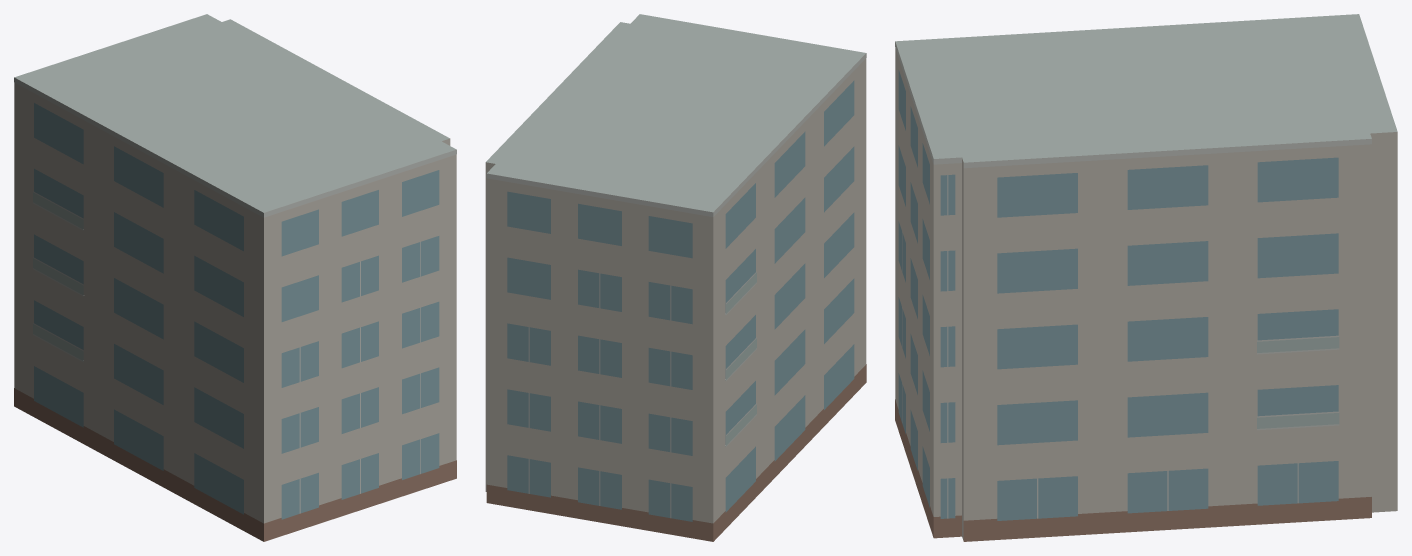
File: survey-upis-32960573.glb
3 views of the same model, side by side, from view 1: azimuth 30°, elevation 25°; view 2: azimuth 150°, elevation 25°; view 3: azimuth 270°, elevation 25° (orthographic). The views are drawn at different scales.
Visible parts, largest first — view 1: survey-upis-32960573.tmp; view 2: survey-upis-32960573.tmp; view 3: survey-upis-32960573.tmp.
Boxes of the visible parts, box(x1,y1,x2,y2) form: survey-upis-32960573.tmp: box(14, 14, 456, 541); survey-upis-32960573.tmp: box(485, 14, 866, 541); survey-upis-32960573.tmp: box(895, 14, 1397, 541).
Size of the model in its own units: 13.9 by 16.51 by 19.84.
